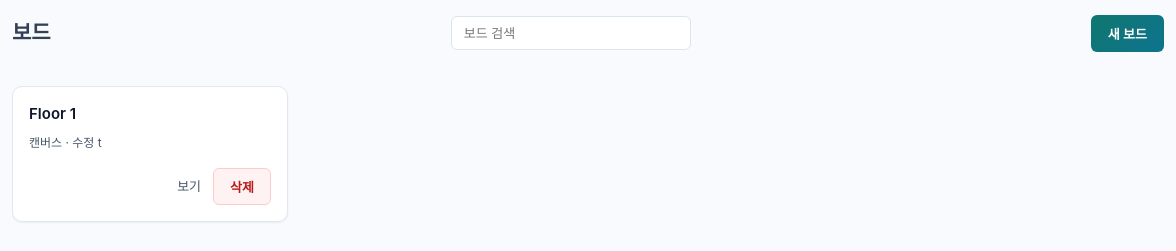
Test: BoardsListPage › deletes a board after confirmation and removes it from the list
This screenshot has width=1176, height=251.
Check: the link "Floor 1" is shown, box [29,104,76,123]
Click the button with aria-label "Floor 1 삭제" at coordinates (242, 186), box [213,168,271,205]
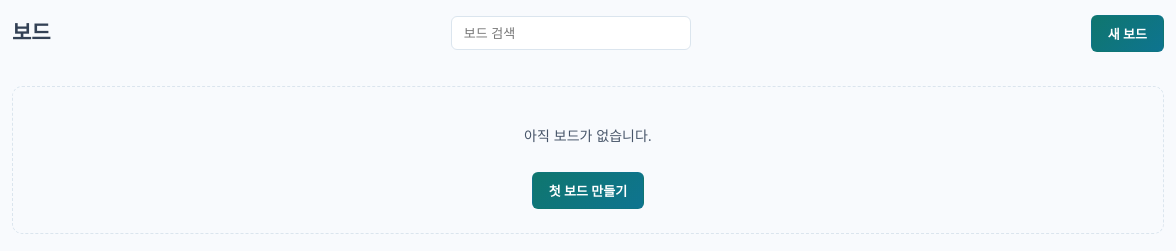
Check: the link "Floor 1" is gone
